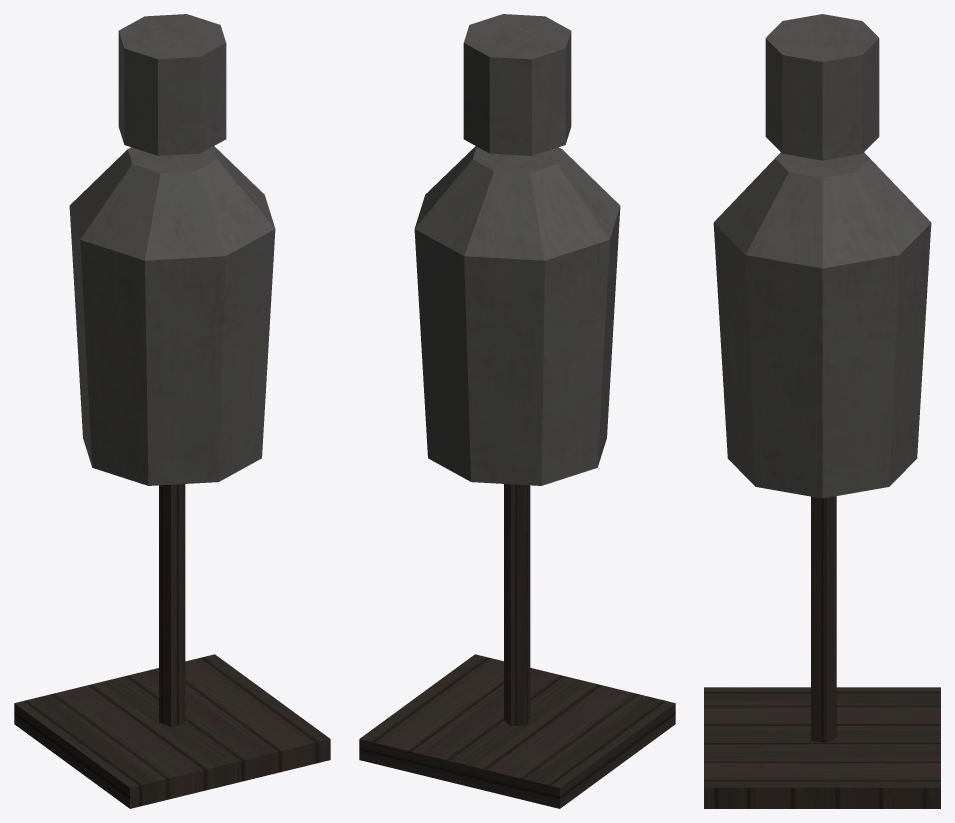
File: armor_stand_01.glb
3 renders of one model, left to right at view 1: azimuth 30°, elevation 25°; view 2: azimuth 150°, elevation 25°; view 3: azimuth 270°, elevation 25°, orthographic. The views are drawn at different scales.
Visible parts, largest first — view 1: armor_stand_01; view 2: armor_stand_01; view 3: armor_stand_01.
Part boxes in pixels (bbox=[...]): armor_stand_01: bbox=[14, 14, 330, 808]; armor_stand_01: bbox=[359, 14, 675, 808]; armor_stand_01: bbox=[704, 14, 940, 808].
Size of the model in its own units: 0.5 by 1.68 by 0.5.
2 materials, 2 textured.
